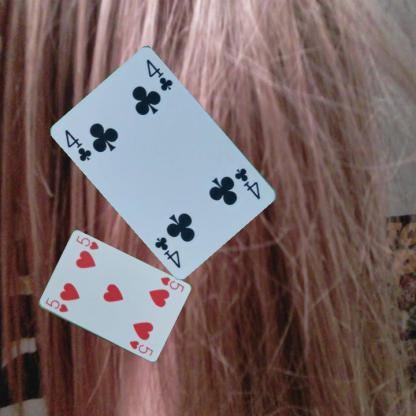4c: (62, 127, 94, 163), (232, 165, 262, 201)
5h: (158, 274, 185, 294), (43, 295, 69, 314)
